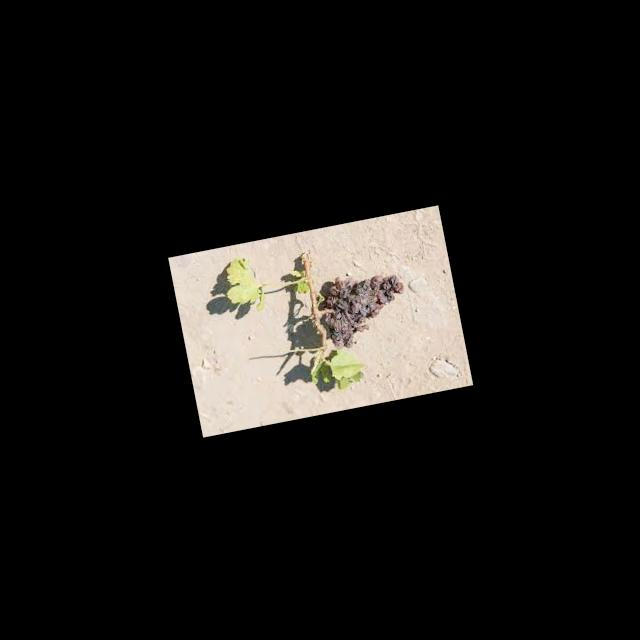grape: (311, 264, 412, 352)
